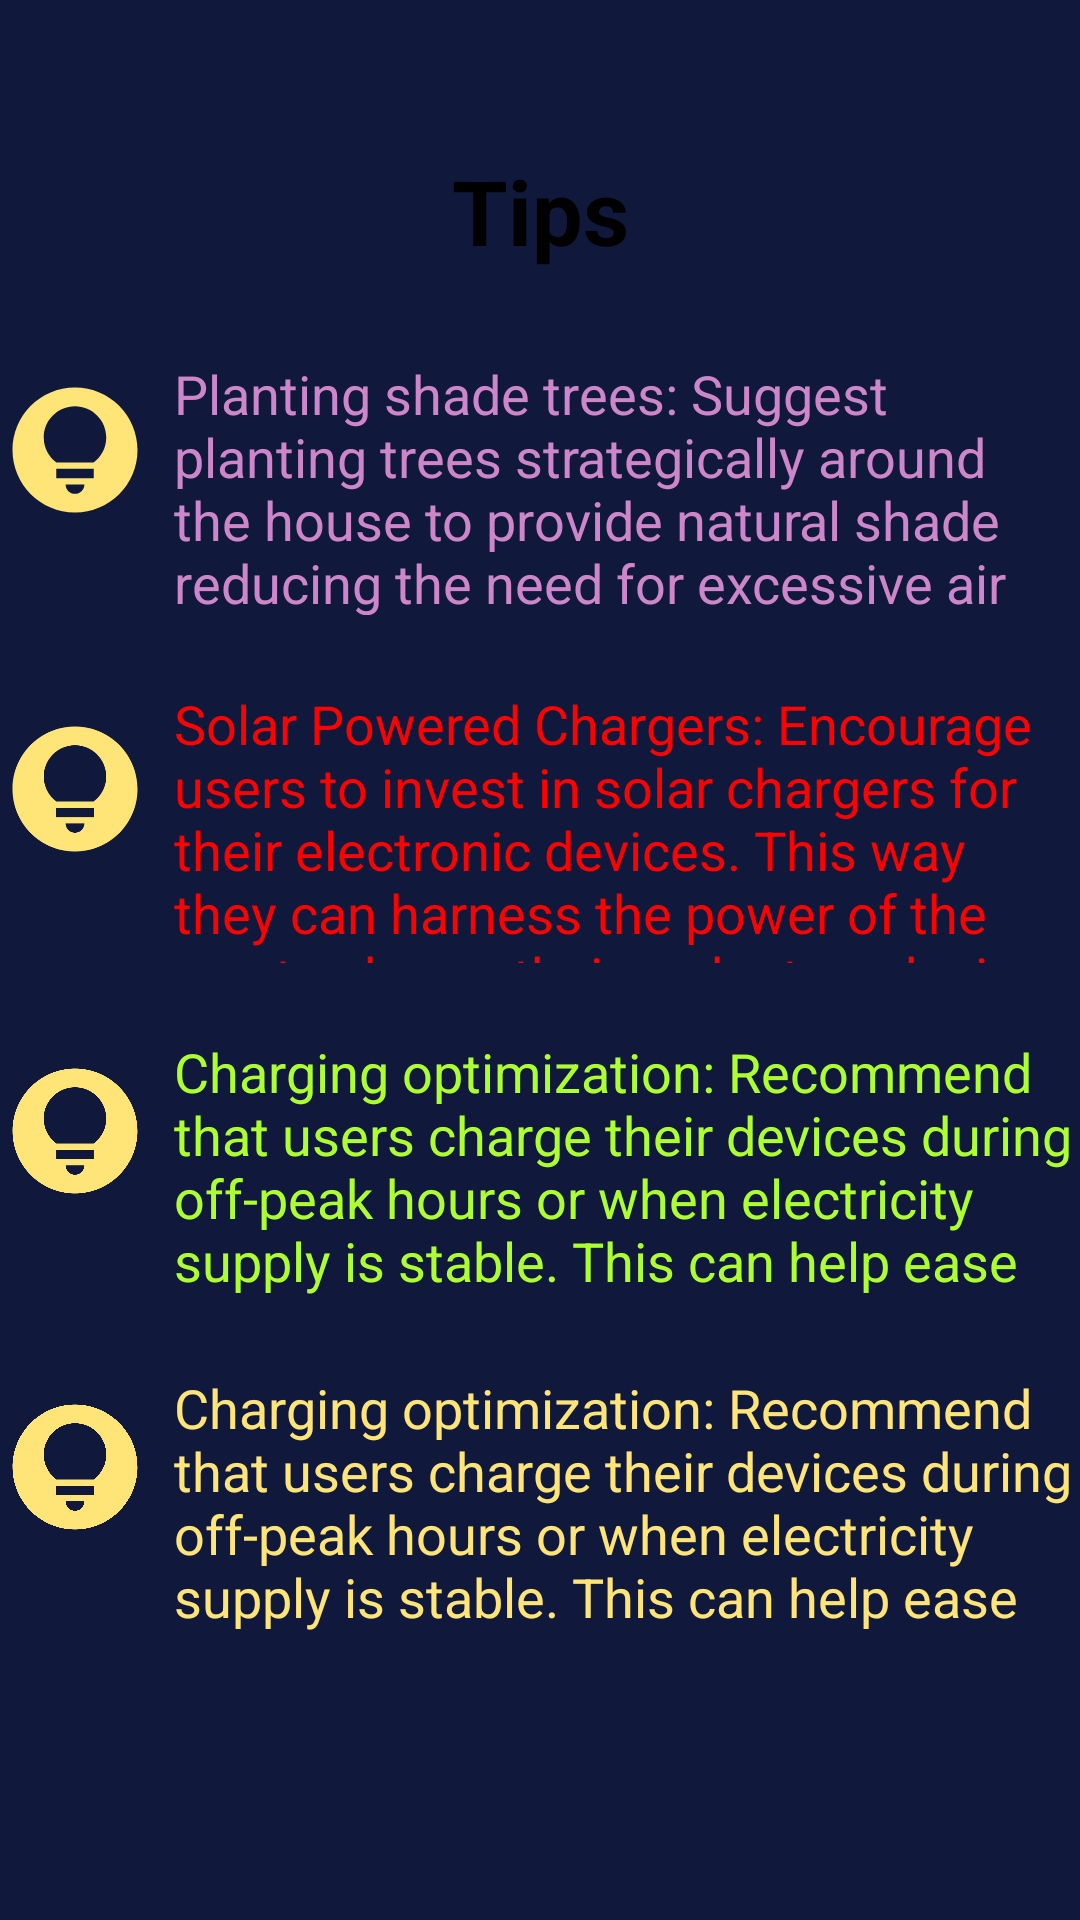

Screen size 1080px×1920px. Icon name, then its box in pixels as BBox(x1, y1, x2, y2):
Lightbulb Icon: BBox(12, 387, 138, 513), BBox(12, 726, 138, 852), BBox(12, 1068, 138, 1194), BBox(12, 1404, 138, 1530)
